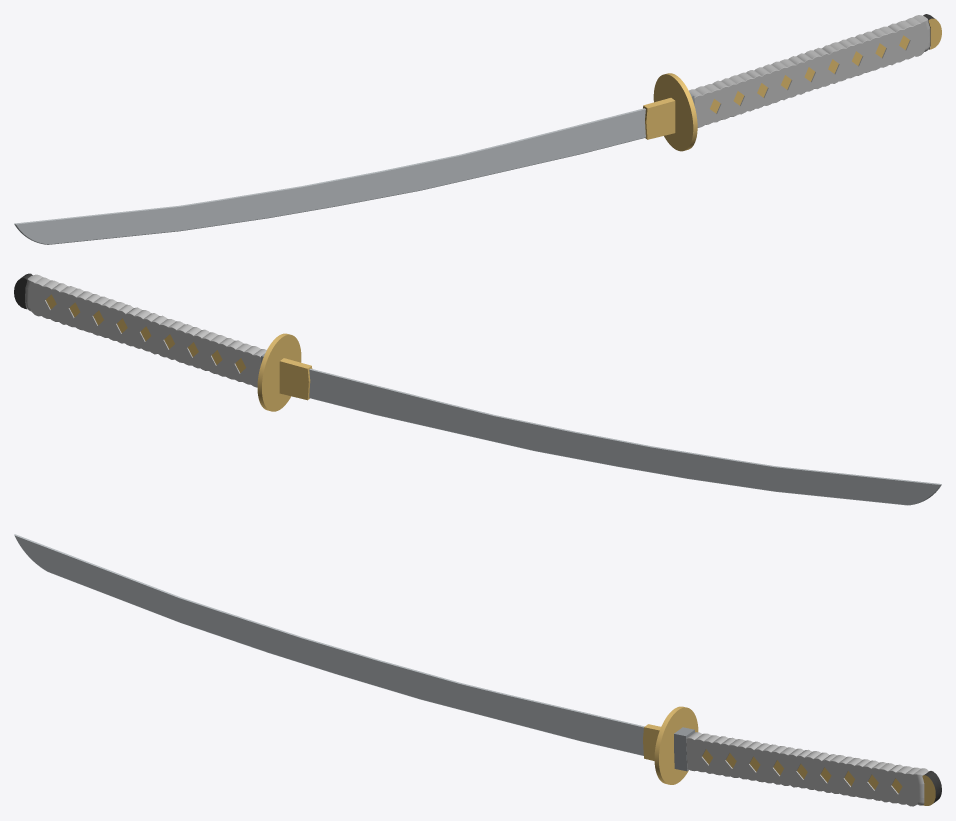
The model's file is KATANA.glb.
3 views of the same model, one above another, from view 1: azimuth 30°, elevation 25°; view 2: azimuth 150°, elevation 25°; view 3: azimuth 330°, elevation 25° (orthographic).
Bounding box in the file's own units: 0.0233 × 0.00206 × 0.00173.
